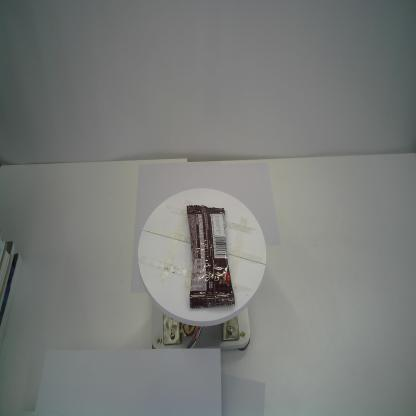Chocolate: (186, 204, 236, 310)
